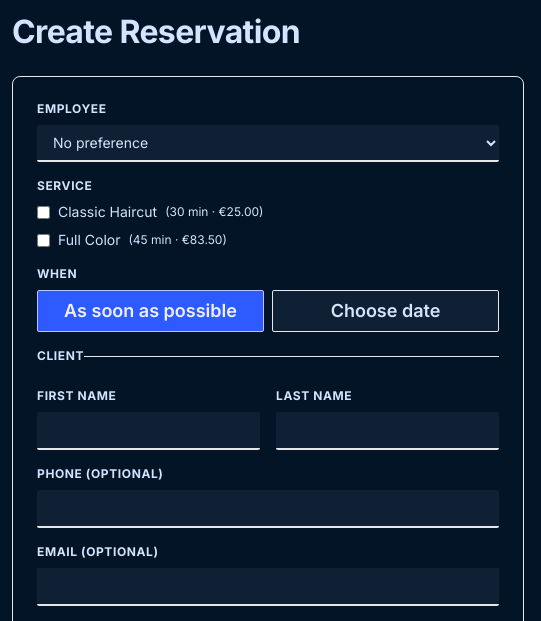
Scenario: CreateReservation (crear) › F4.4c: el select abre en "No preference" y busca huecos sin employeeId
Expected: the dropdown labelled "Employee" shows "No preference", [37, 125, 499, 162]
Click the checkbox labelled "Classic Haircut (30 min · €25.00)".
click(44, 212)  # box [37, 206, 50, 218]
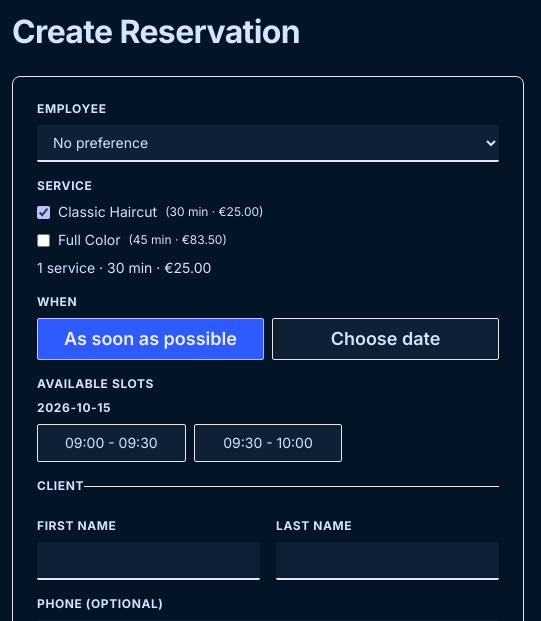
Now the text "09:00 - 09:30" is shown, box [65, 434, 158, 451]
